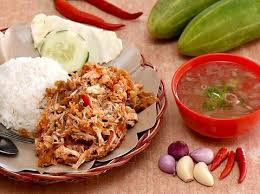ayam_geprek: (39, 65, 141, 168)
